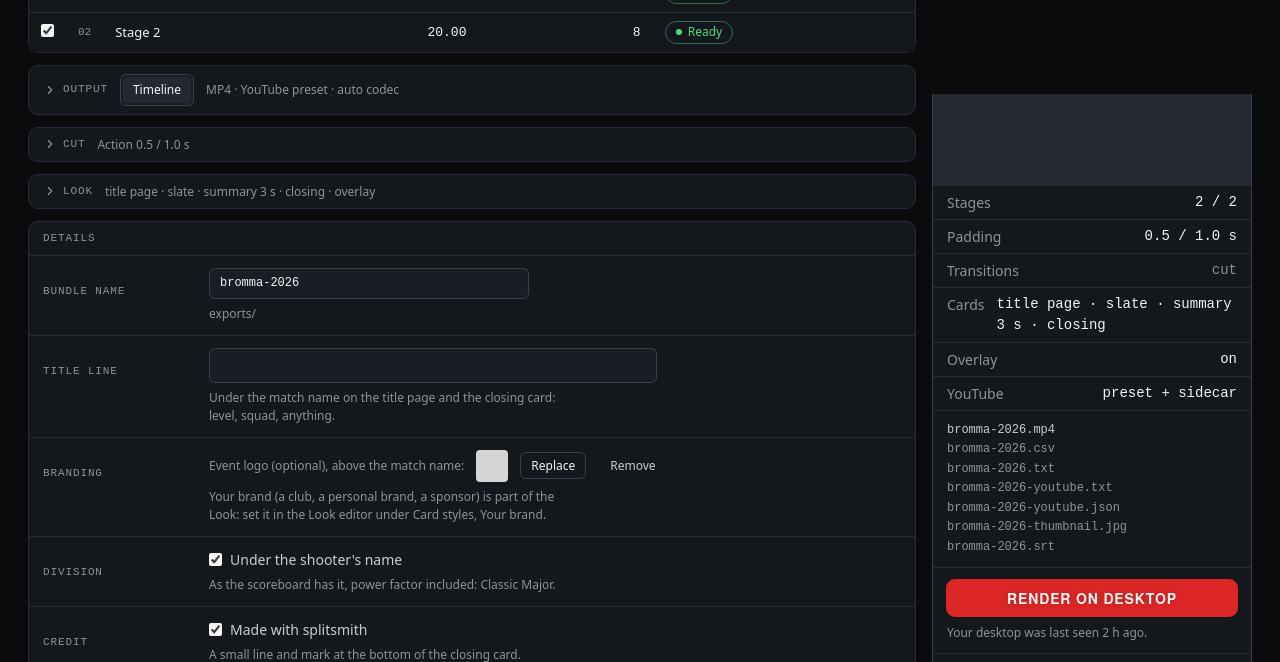
Export on a desktop-synced match › sends one request at a time
(page scrolled)
Click the button "Render on desktop".
click(1092, 598)  # box [947,580,1237,616]
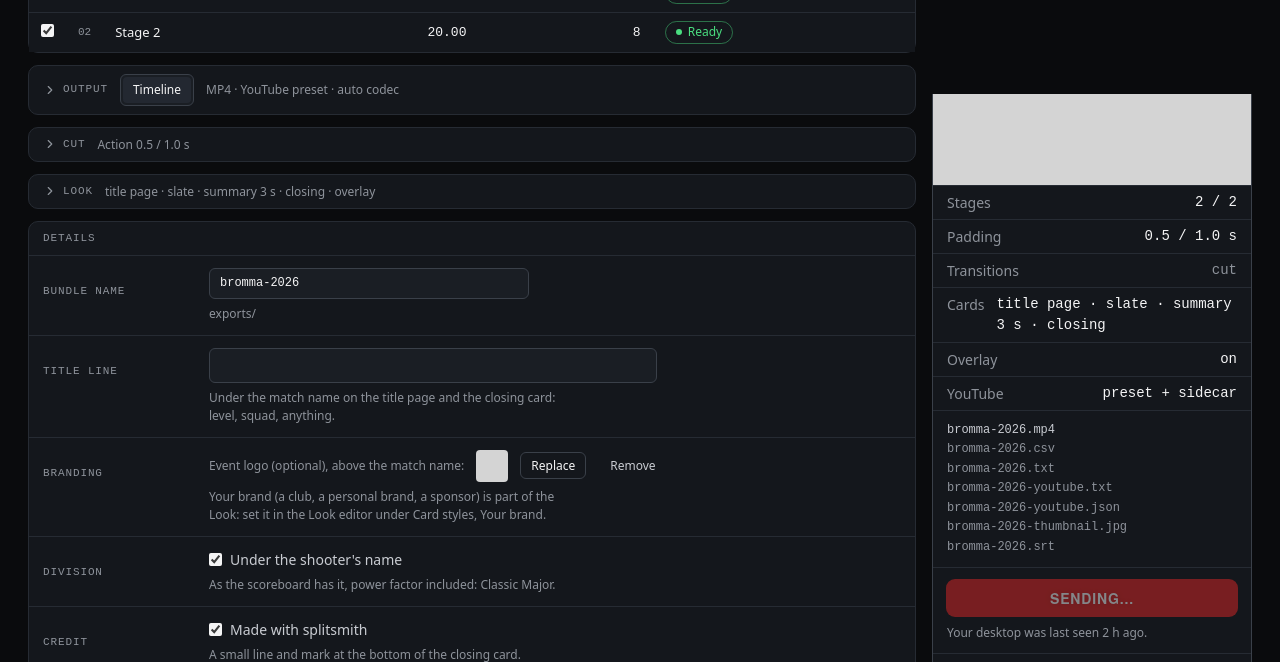
Now the button "Sending..." is disabled, box [947,580,1237,616]
